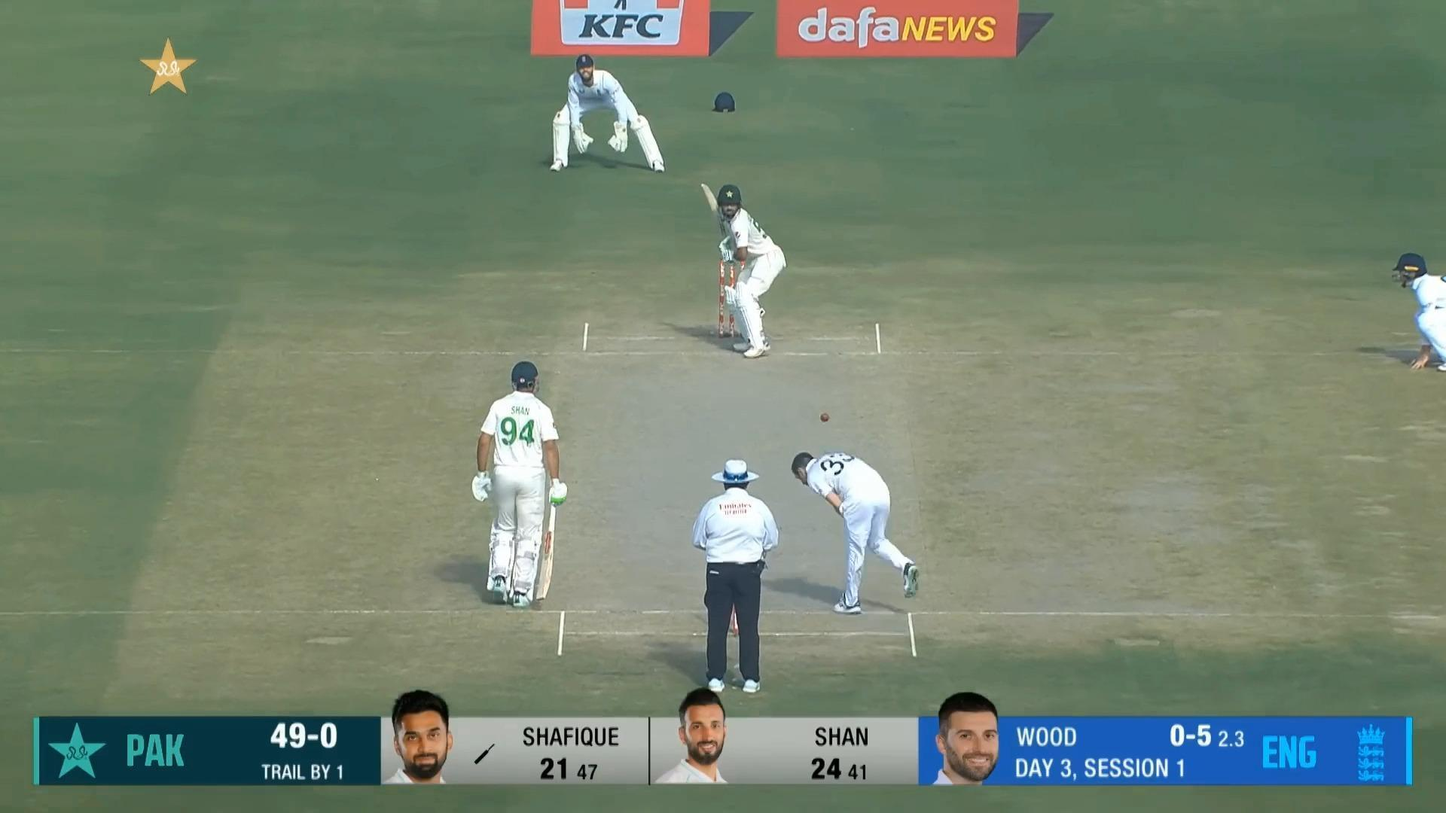BM 1: (701, 183, 787, 359)
BO: (791, 449, 922, 616)
